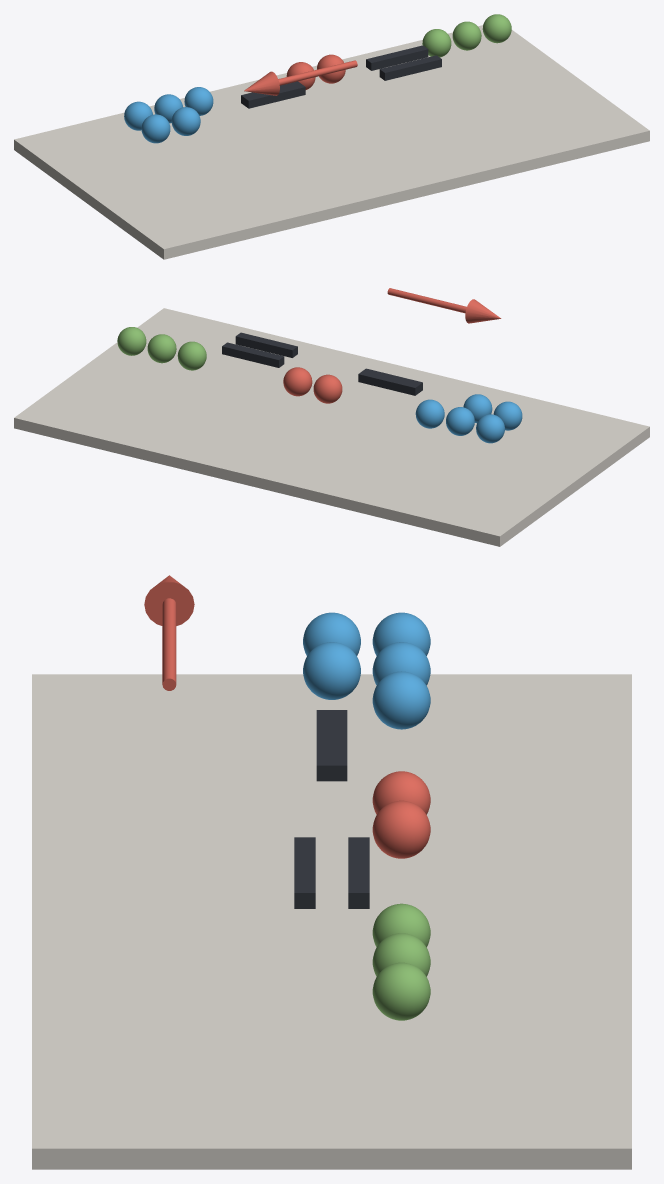
Rendered from math-number-subtraction.glb.
3 views of the same model, one above another, from view 1: azimuth 30°, elevation 25°; view 2: azimuth 150°, elevation 25°; view 3: azimuth 270°, elevation 25° (orthographic). The views are drawn at different scales.
Parts seen in each view (by area): view 1: number-sense-base, subtraction-symbol-minus-bar, difference-symbol-equal-top, difference-symbol-equal-bottom, starting-five-counter-4, starting-five-counter-5, remaining-three-counter-3, remaining-three-counter-2, remaining-three-counter-1, starting-five-counter-3, take-away-motion-arrow-shaft, starting-five-counter-1 (+4 smaller); view 2: number-sense-base, subtraction-symbol-minus-bar, difference-symbol-equal-top, difference-symbol-equal-bottom, starting-five-counter-1, take-away-two-counter-1, take-away-two-counter-2, starting-five-counter-3, remaining-three-counter-1, remaining-three-counter-2, remaining-three-counter-3, starting-five-counter-2 (+4 smaller); view 3: number-sense-base, starting-five-counter-3, remaining-three-counter-3, take-away-two-counter-2, starting-five-counter-5, subtraction-symbol-minus-bar, remaining-three-counter-1, starting-five-counter-2, starting-five-counter-1, take-away-two-counter-1, remaining-three-counter-2, starting-five-counter-4 (+4 smaller).
Part boxes in pixels (box(x1,y1,x2,y2)): number-sense-base: box(14, 25, 649, 259); subtraction-symbol-minus-bar: box(241, 81, 305, 108); difference-symbol-equal-top: box(366, 45, 428, 70); difference-symbol-equal-bottom: box(379, 55, 441, 80); starting-five-counter-4: box(141, 114, 170, 143); starting-five-counter-5: box(171, 107, 200, 135); remaining-three-counter-3: box(482, 14, 511, 43); remaining-three-counter-2: box(452, 21, 481, 50); remaining-three-counter-1: box(422, 29, 451, 57); starting-five-counter-3: box(184, 87, 213, 115); take-away-motion-arrow-shaft: box(278, 60, 357, 85); starting-five-counter-1: box(124, 101, 152, 130); number-sense-base: box(14, 308, 649, 546); subtraction-symbol-minus-bar: box(358, 368, 422, 395); difference-symbol-equal-top: box(222, 342, 284, 367); difference-symbol-equal-bottom: box(235, 332, 297, 357); starting-five-counter-1: box(476, 414, 504, 443); take-away-two-counter-1: box(313, 374, 342, 403); take-away-two-counter-2: box(283, 367, 312, 396); starting-five-counter-3: box(415, 399, 444, 428); remaining-three-counter-1: box(177, 341, 206, 370); remaining-three-counter-2: box(147, 334, 176, 363); remaining-three-counter-3: box(117, 327, 146, 355); starting-five-counter-2: box(446, 407, 474, 435); number-sense-base: box(32, 674, 631, 1169); starting-five-counter-3: box(372, 671, 430, 729); remaining-three-counter-3: box(372, 962, 430, 1020); take-away-two-counter-2: box(372, 800, 430, 858); starting-five-counter-5: box(303, 642, 360, 699); subtraction-symbol-minus-bar: box(316, 710, 347, 781); remaining-three-counter-1: box(372, 903, 430, 947); starting-five-counter-2: box(372, 642, 430, 685); starting-five-counter-1: box(372, 612, 430, 655); take-away-two-counter-1: box(372, 771, 430, 814); remaining-three-counter-2: box(372, 933, 430, 976); starting-five-counter-4: box(303, 612, 360, 655).
Size of what is drawn, in the model's own units: 2.9 by 0.724 by 1.55.
